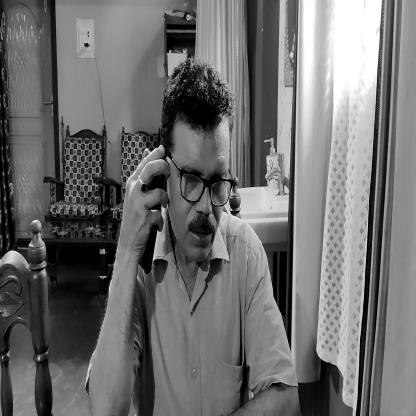Distracted: (160, 41, 232, 269)
